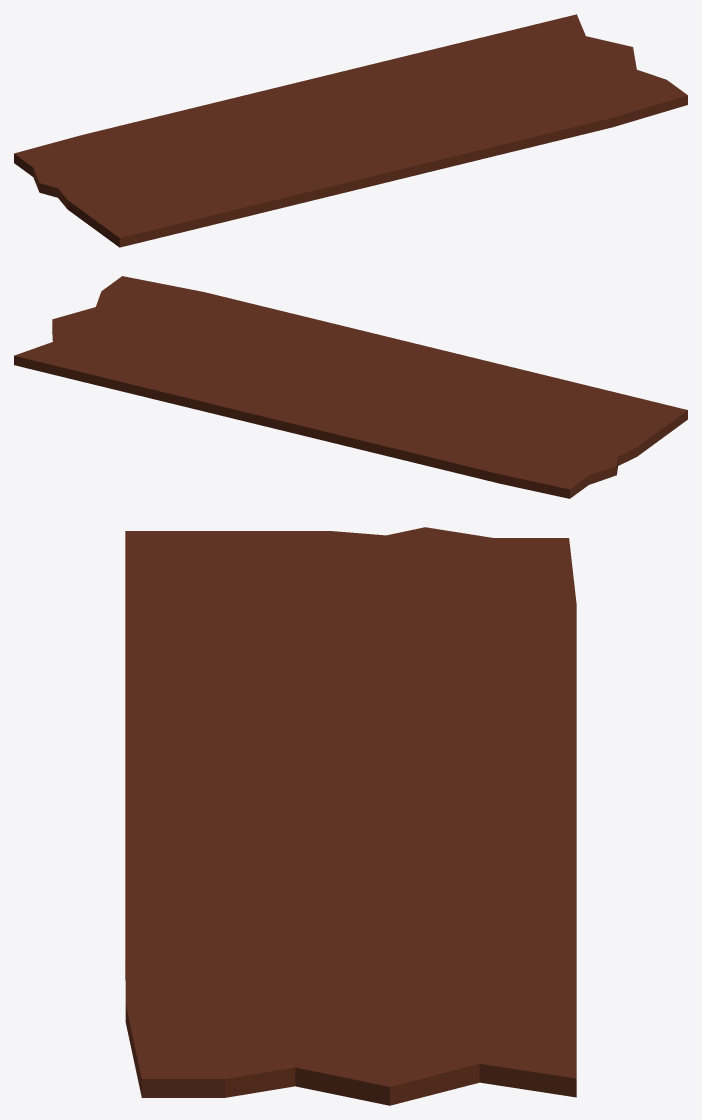
Rendered from WoodBoard.fbx.
3 renders of one model, top to bottom at view 1: azimuth 30°, elevation 25°; view 2: azimuth 150°, elevation 25°; view 3: azimuth 270°, elevation 25°, orthographic. The views are drawn at different scales.
Parts seen in each view (by area): view 1: WoodBoard; view 2: WoodBoard; view 3: WoodBoard.
Part boxes in pixels (box(x1,y1,x2,y2)): WoodBoard: box(14, 14, 687, 247); WoodBoard: box(14, 276, 687, 498); WoodBoard: box(125, 527, 576, 1105).
Size of the model in its own units: 136 by 2.15 by 46.41.
